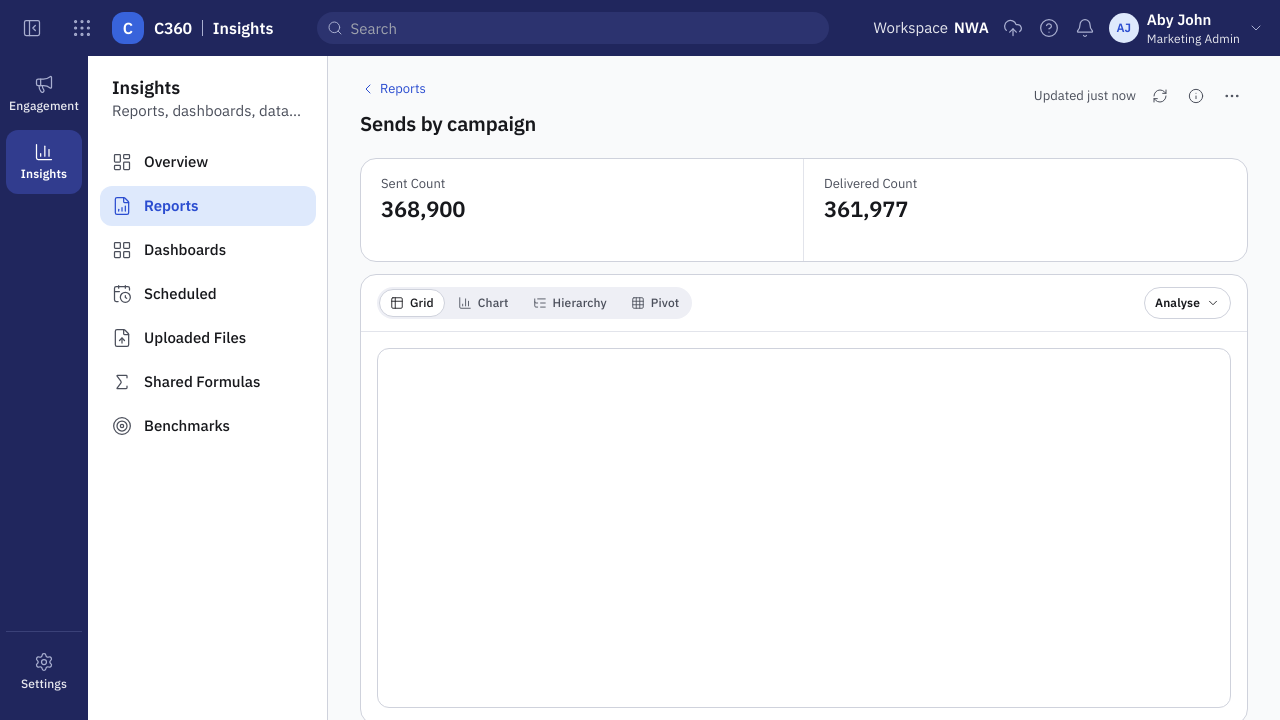
Test: Help With Reports in More Actions opens the Insights help
Check: the heading "Sends by campaign" is shown, box [360, 110, 536, 138]
Click the button named "More actions". click: (1232, 96)
box: [1216, 80, 1248, 112]
(page scrolled)
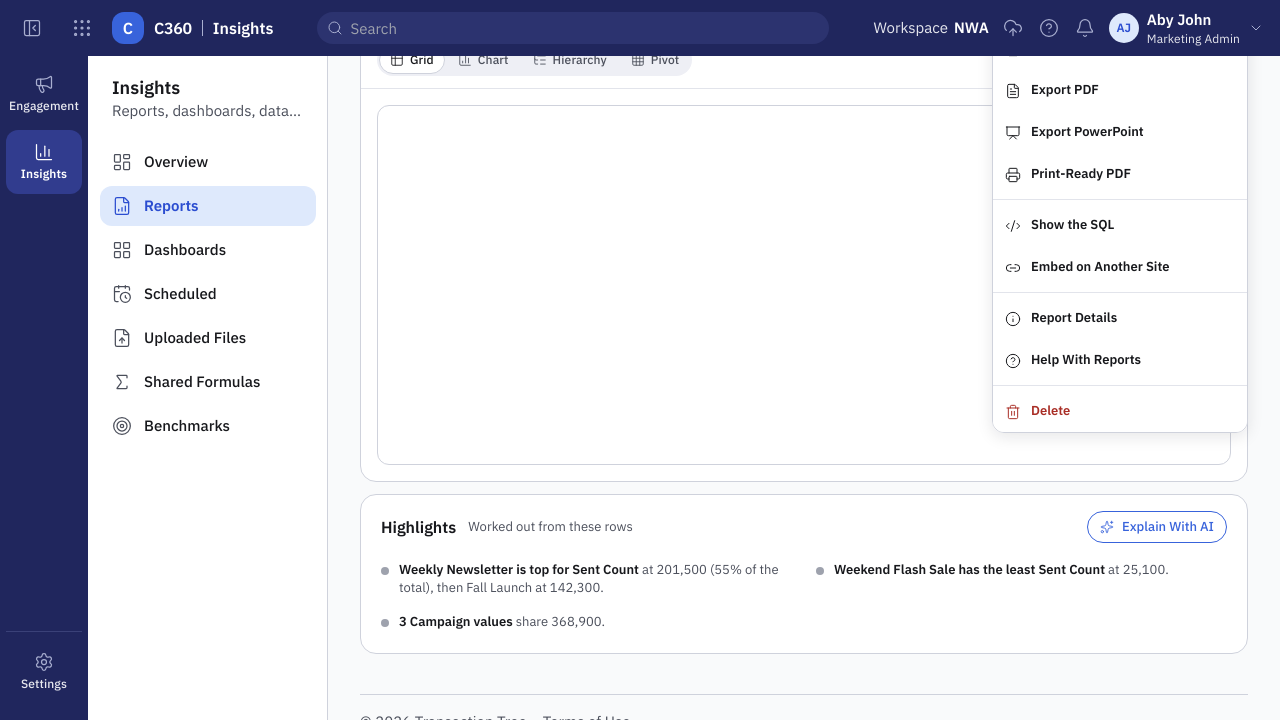
Click the menu item "Help With Reports". click: (1120, 360)
box: [993, 339, 1247, 381]
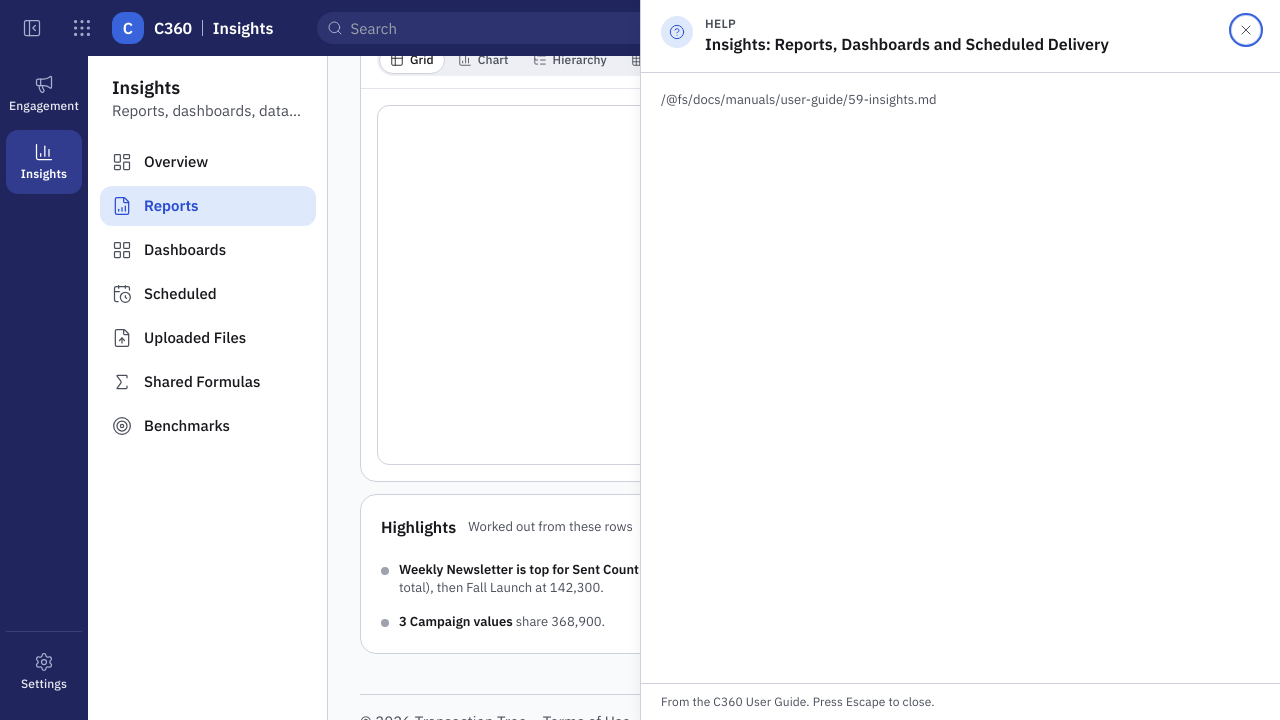
Check: the element that starts with "Help" is shown, box [640, 0, 1279, 719]
